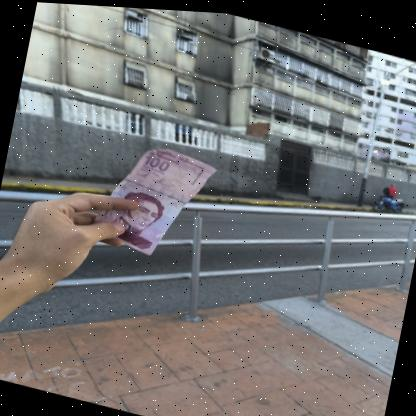one_hundred-front-vef: (89, 131, 219, 267)
